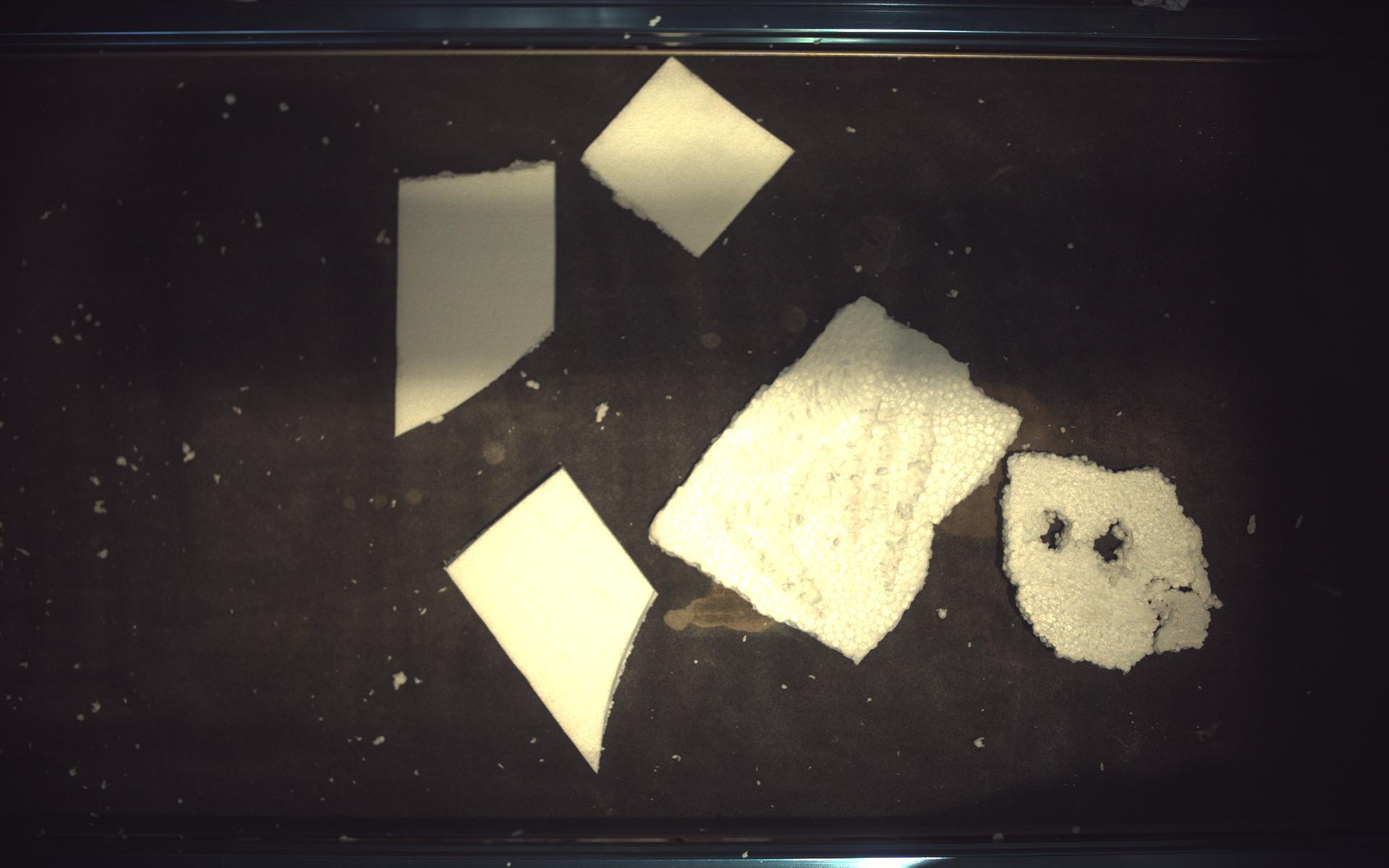foam: (650, 297, 1024, 663), (446, 468, 658, 773), (1003, 452, 1225, 673), (394, 161, 556, 435), (582, 56, 794, 257)
